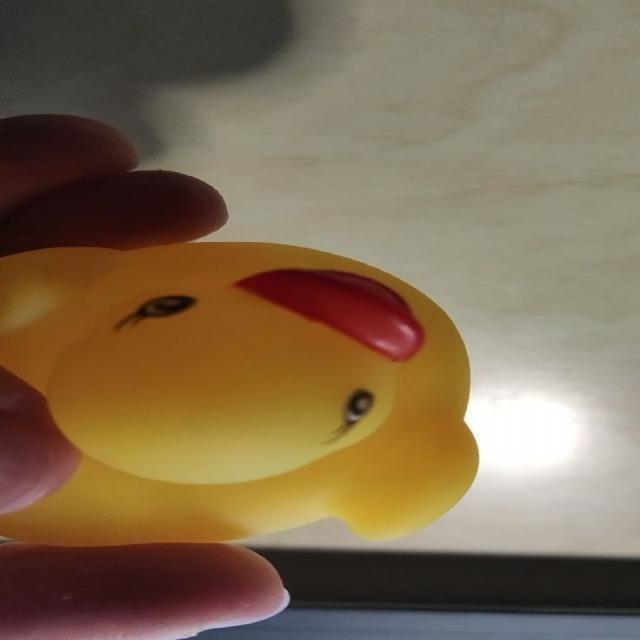rubber-duck: (0, 242, 476, 543)
